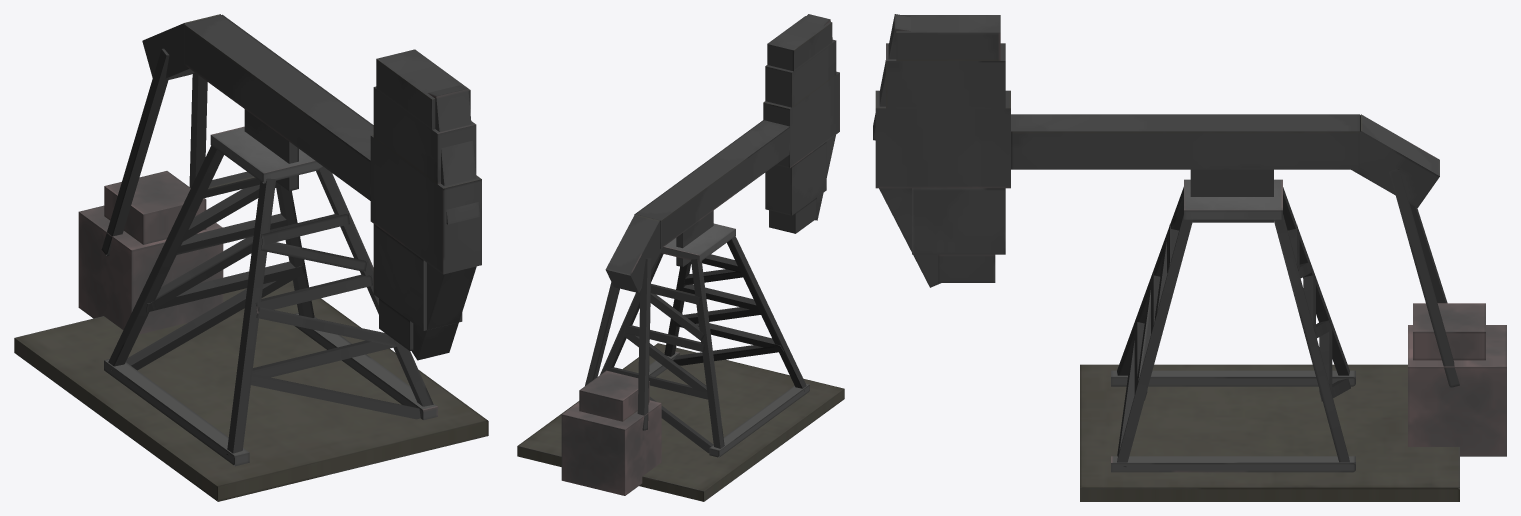
The model's file is oil_pump.obj.
The picture shows the model from 3 angles, left to right: view 1: azimuth 30°, elevation 25°; view 2: azimuth 150°, elevation 25°; view 3: azimuth 270°, elevation 25°; orthographic projection. The views are drawn at different scales.
Parts seen in each view (by area): view 1: cube, cube.020, cube.022, Chest, Support2, cube.025, cube.023, Support1, Chest1, cube.026, cube.003, cube.004 (+22 smaller); view 2: cube, Chest, cube.020, cube.022, cube.023, cube.021, cube.025, Chest1, cube.026, Support1, Support2, cube.007 (+19 smaller); view 3: cube, cube.020, cube.022, Chest, cube.023, cube.025, cube.026, cube.021, cube.001, Chest1, cube.002, Support3 (+11 smaller).
Part boxes in pixels (left/top/right/bottom): cube: left=14, top=280, right=488, bottom=501; cube.020: left=184, top=14, right=373, bottom=200; cube.022: left=370, top=135, right=481, bottom=274; Chest: left=78, top=205, right=223, bottom=334; Support2: left=226, top=178, right=275, bottom=456; cube.025: left=373, top=86, right=476, bottom=184; cube.023: left=373, top=224, right=462, bottom=330; Support1: left=108, top=145, right=223, bottom=370; Chest1: left=104, top=171, right=206, bottom=244; cube.026: left=376, top=49, right=470, bottom=129; cube.003: left=411, top=263, right=476, bottom=360; cube.004: left=428, top=85, right=479, bottom=224; cube: left=517, top=343, right=844, bottom=501; Chest: left=561, top=400, right=661, bottom=495; cube.020: left=634, top=120, right=789, bottom=248; cube.022: left=763, top=71, right=839, bottom=168; cube.023: left=765, top=142, right=826, bottom=215; cube.021: left=605, top=214, right=662, bottom=292; cube.025: left=765, top=39, right=836, bottom=107; Chest1: left=579, top=370, right=649, bottom=421; cube.026: left=767, top=16, right=832, bottom=71; Support1: left=691, top=259, right=724, bottom=448; Support2: left=727, top=236, right=806, bottom=391; cube.007: left=637, top=258, right=651, bottom=430; cube: left=1080, top=364, right=1459, bottom=501; cube.020: left=1011, top=114, right=1359, bottom=169; cube.022: left=875, top=90, right=1010, bottom=188; Chest: left=1408, top=325, right=1506, bottom=456; cube.023: left=912, top=188, right=1005, bottom=254; cube.025: left=886, top=43, right=1005, bottom=108; cube.026: left=896, top=15, right=1000, bottom=60; cube.021: left=1351, top=114, right=1439, bottom=207; cube.001: left=1111, top=456, right=1355, bottom=472; Chest1: left=1413, top=303, right=1485, bottom=360; cube.002: left=1111, top=370, right=1355, bottom=386; Support3: left=1117, top=213, right=1192, bottom=466.
Bounding box in the file's own units: 4.18 × 6.62 × 9.08.
